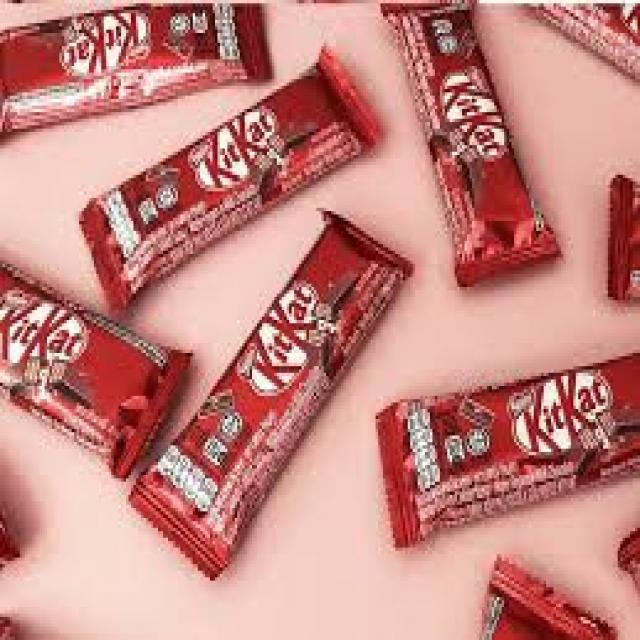kitkat: (134, 217, 425, 571), (84, 42, 386, 299), (380, 341, 640, 557), (383, 0, 568, 300), (0, 251, 192, 486), (0, 0, 275, 120)
